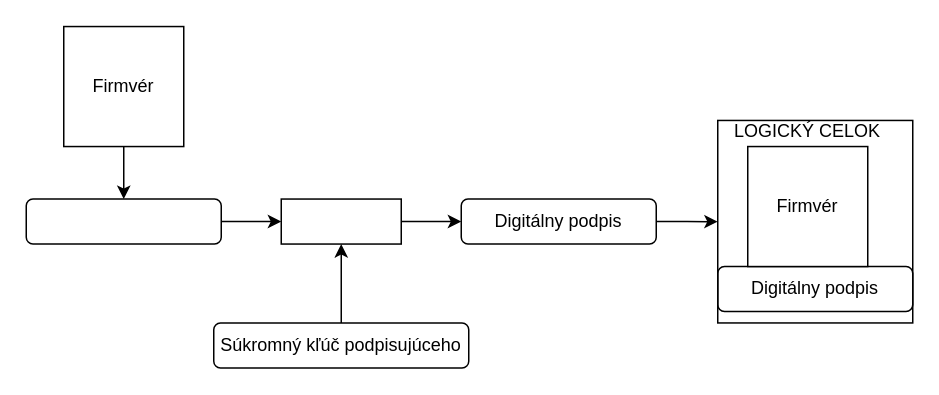
Some shapes in this 939 by 395 pixel diagram are drawn without their labels. Here are the shapes that lost their labels. From the top down, the centre of each, then its label:
the point at 123,221: HASH (SHA-256)
the point at 340,221: Šifrovanie
